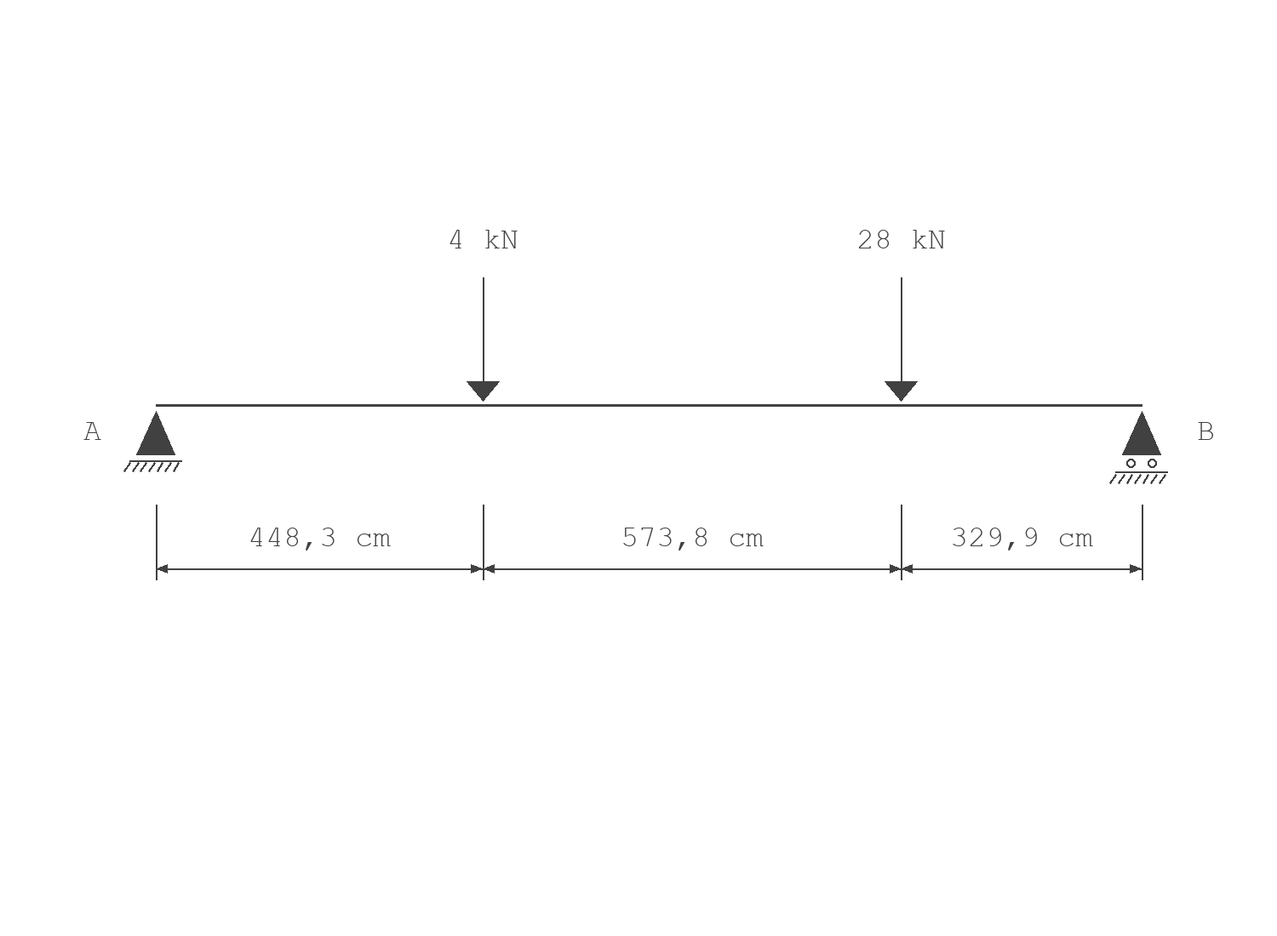pin_support: (123, 411, 182, 472)
point_load: (467, 277, 500, 402), (885, 277, 918, 402)
roller_support: (1109, 411, 1168, 484)
